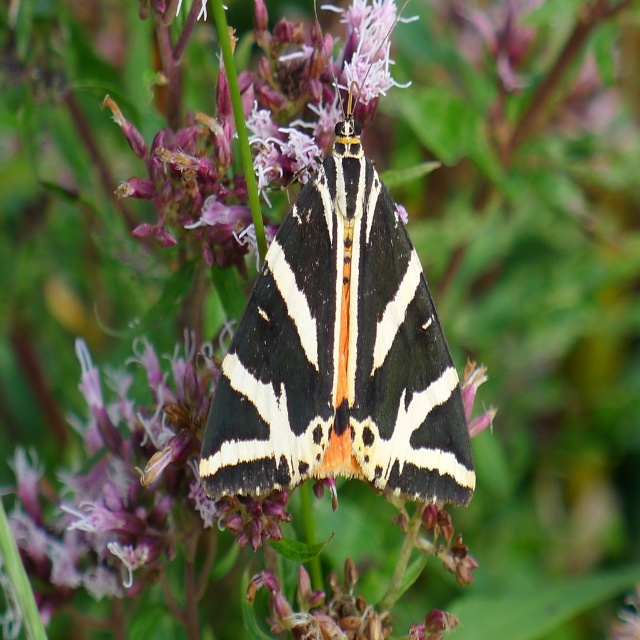Butterfly: (190, 81, 480, 548)
